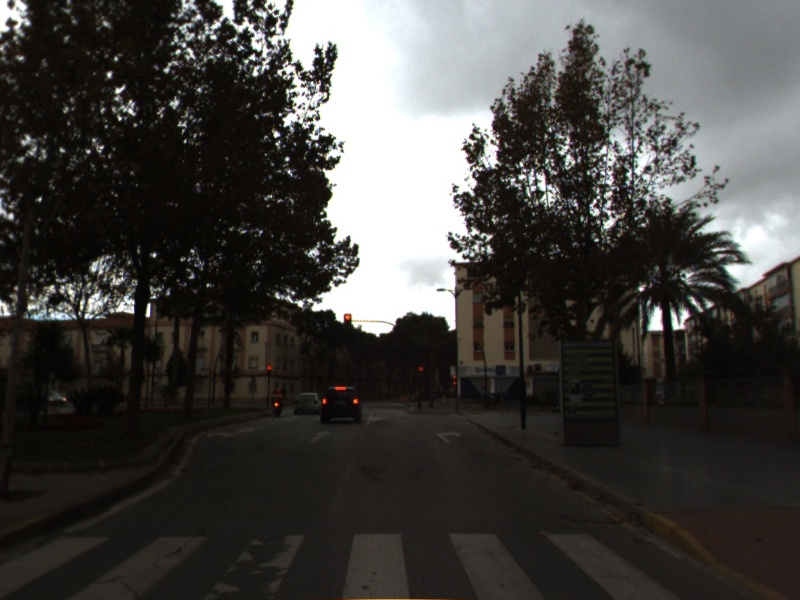RIGHT: (433, 428, 466, 445)
STRAIGHT: (306, 427, 334, 445)
STRAIGHT_LEFT: (203, 424, 259, 440)
